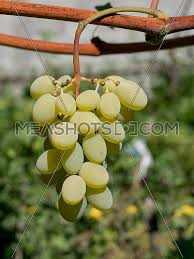grapes: (26, 68, 152, 225)
